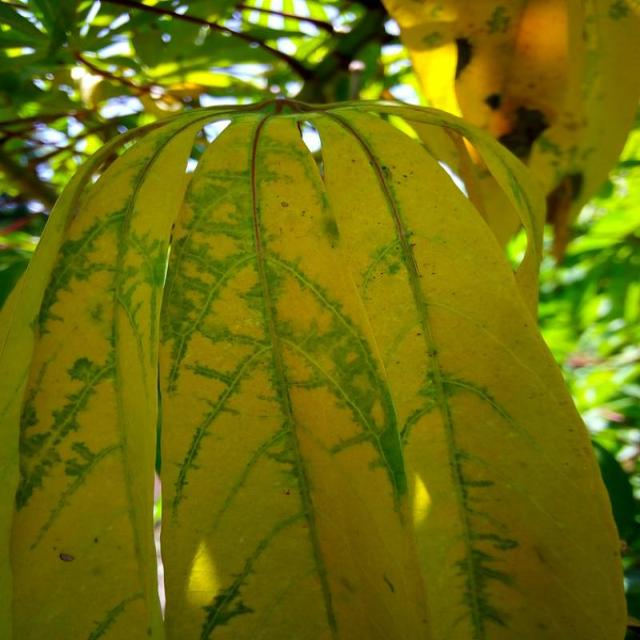cassava leaf: (1, 97, 629, 638)
